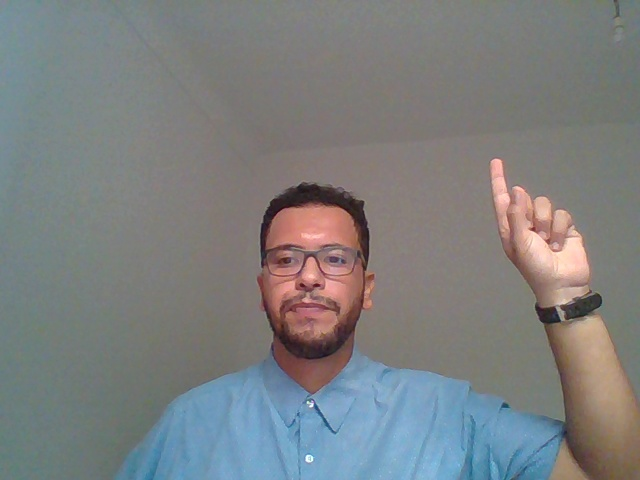handup: (464, 122, 625, 460)
